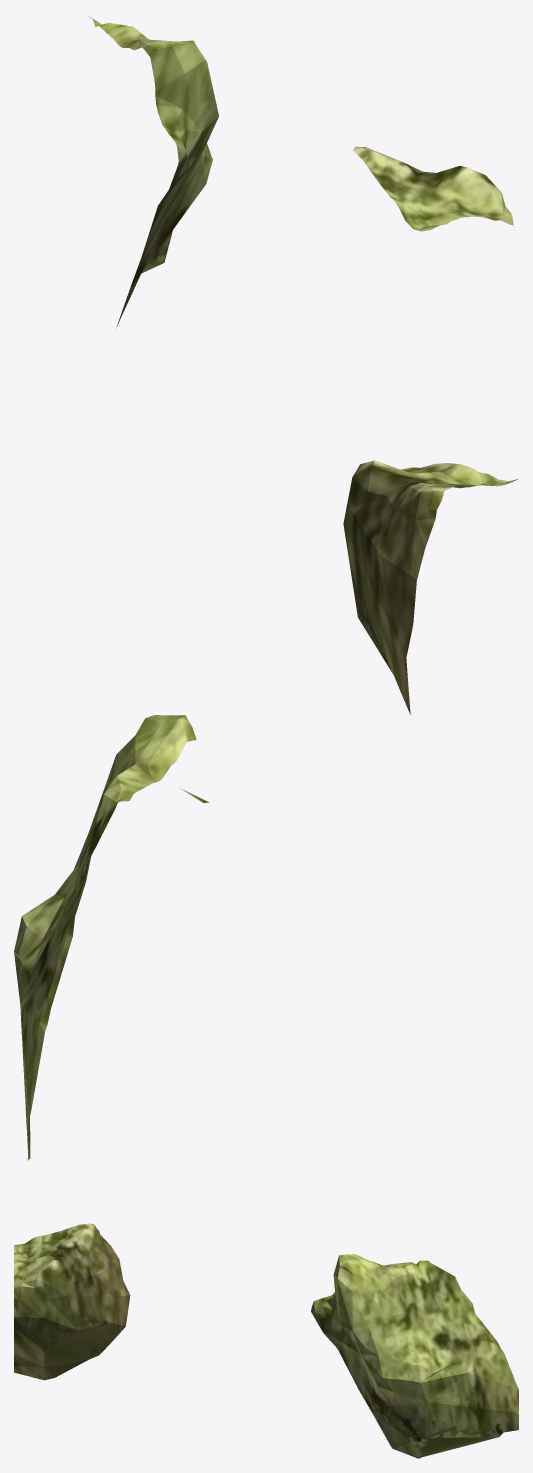
3 views of the same model, one above another, from view 1: azimuth 30°, elevation 25°; view 2: azimuth 150°, elevation 25°; view 3: azimuth 270°, elevation 25° (orthographic). The views are drawn at different scales.
Size of the model in its own units: 0.4659 by 1.52 by 2.95.
1 material, 1 textured.
